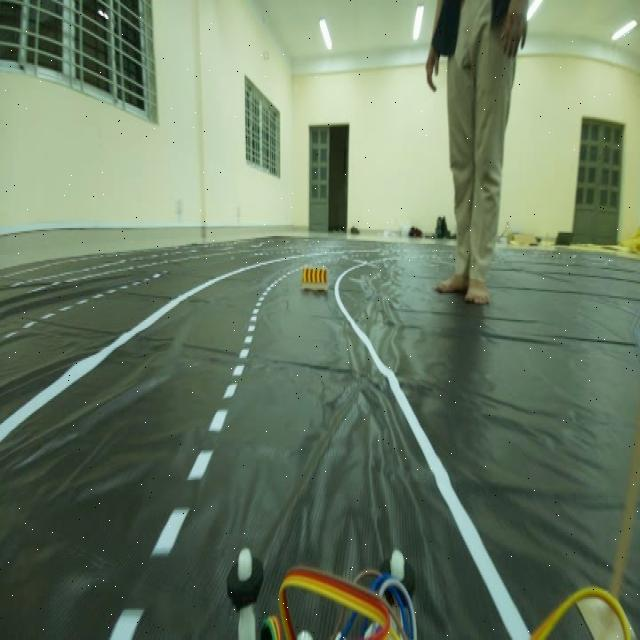roadblock: (295, 256, 332, 297)
